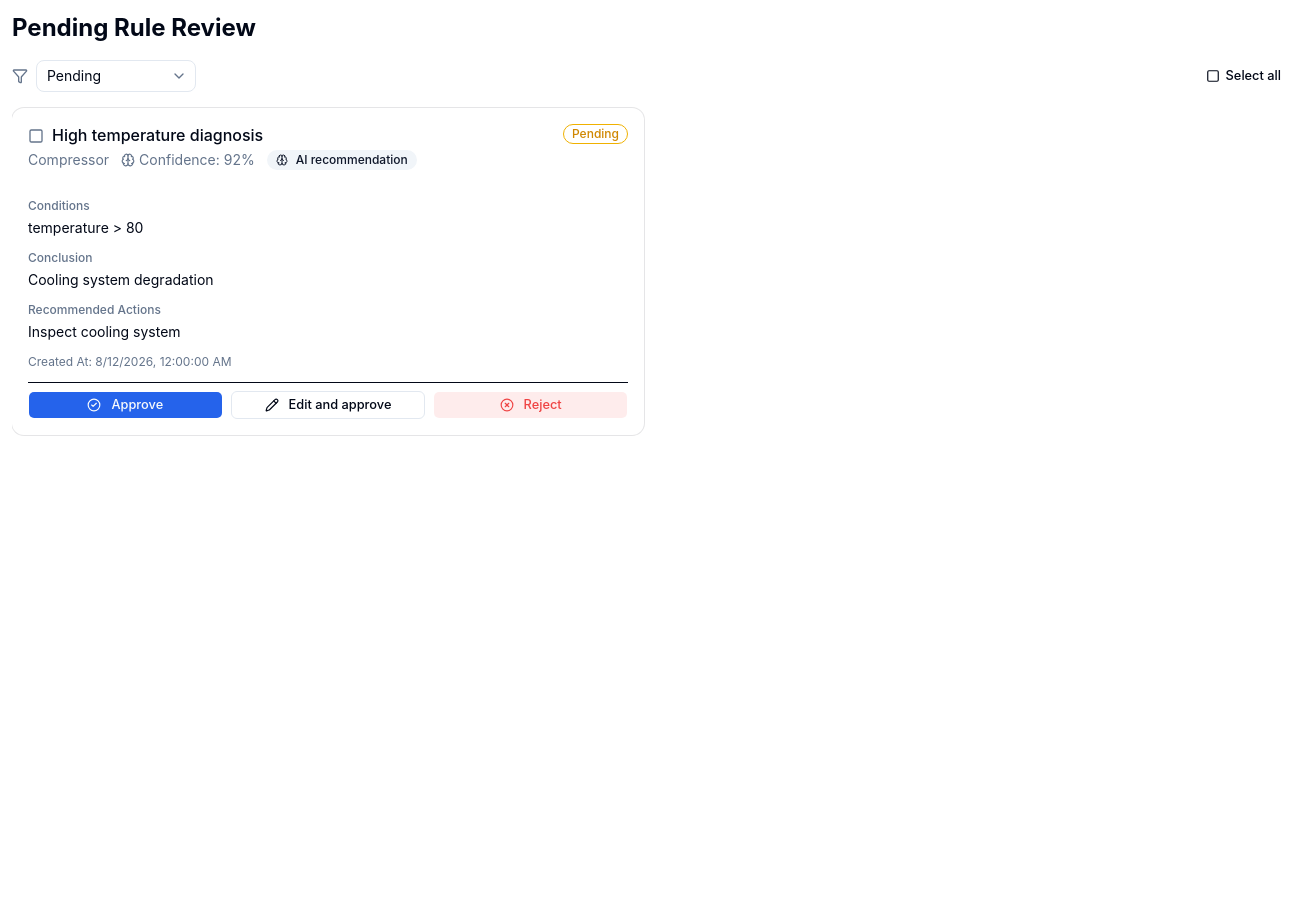
待审核规则页面英文界面 › AI 来源和编辑后批准流程应使用英文资源
The image size is (1304, 912).
Expected: the text "AI recommendation" is shown, [267, 150, 417, 170]
Click the button "Edit and approve" at (328, 405), box [231, 391, 425, 419]
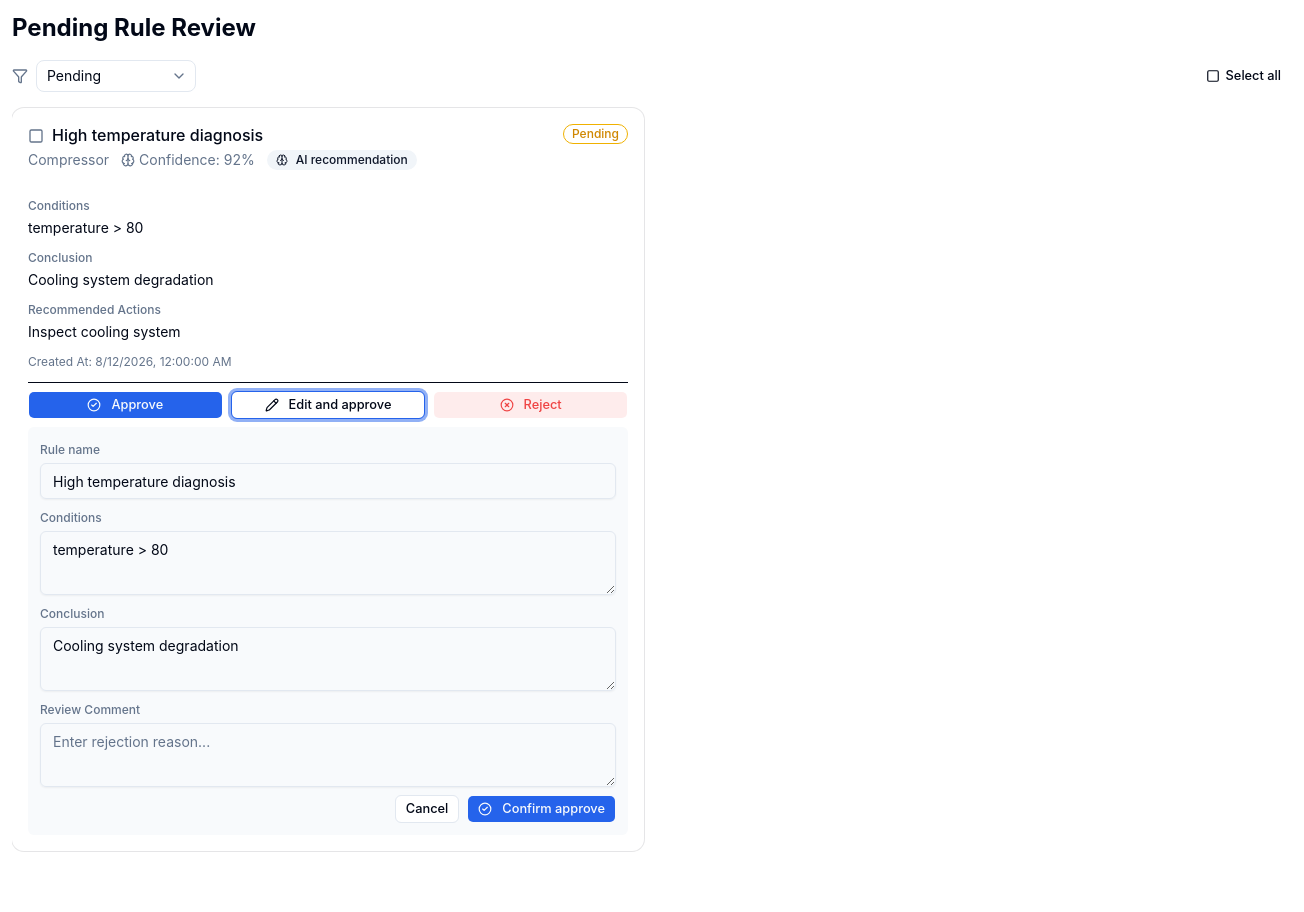
Expected: the button "Confirm approve" is shown, [467, 795, 616, 823]
